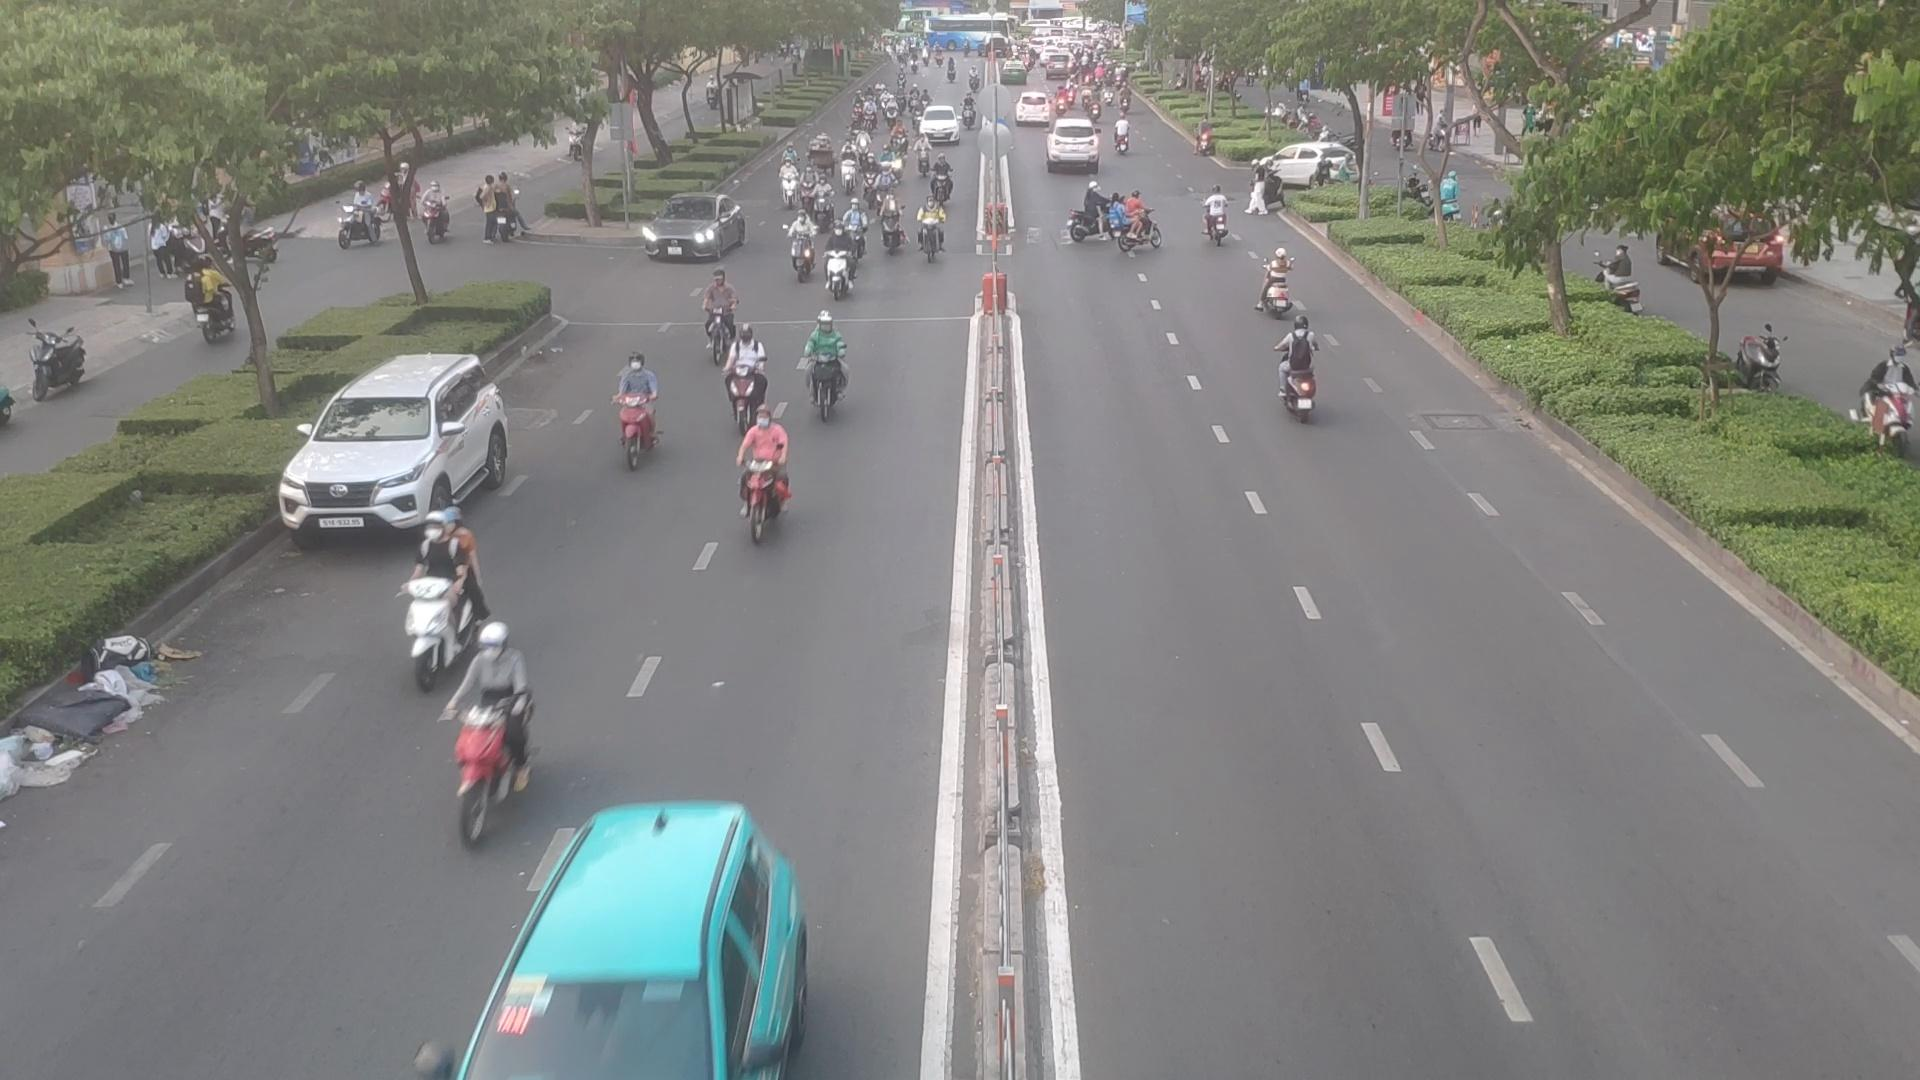car: (415, 811, 822, 1080), (280, 355, 516, 546), (638, 194, 748, 261), (1255, 142, 1360, 189), (1048, 121, 1096, 167)
motorbike: (439, 616, 545, 808), (382, 498, 479, 680), (720, 405, 790, 555), (1269, 311, 1331, 436), (611, 352, 665, 485), (799, 303, 851, 429), (696, 264, 741, 378), (1262, 237, 1299, 331), (727, 327, 757, 440), (1112, 186, 1162, 249), (1075, 186, 1112, 247), (1200, 182, 1232, 240), (786, 212, 810, 284), (882, 185, 905, 257), (829, 220, 847, 305), (923, 190, 939, 260), (930, 152, 949, 202), (818, 179, 837, 225), (860, 156, 880, 199), (851, 199, 866, 252), (800, 166, 816, 212), (914, 135, 928, 177), (880, 146, 894, 185), (841, 149, 855, 186), (778, 162, 789, 204), (893, 142, 906, 175)
